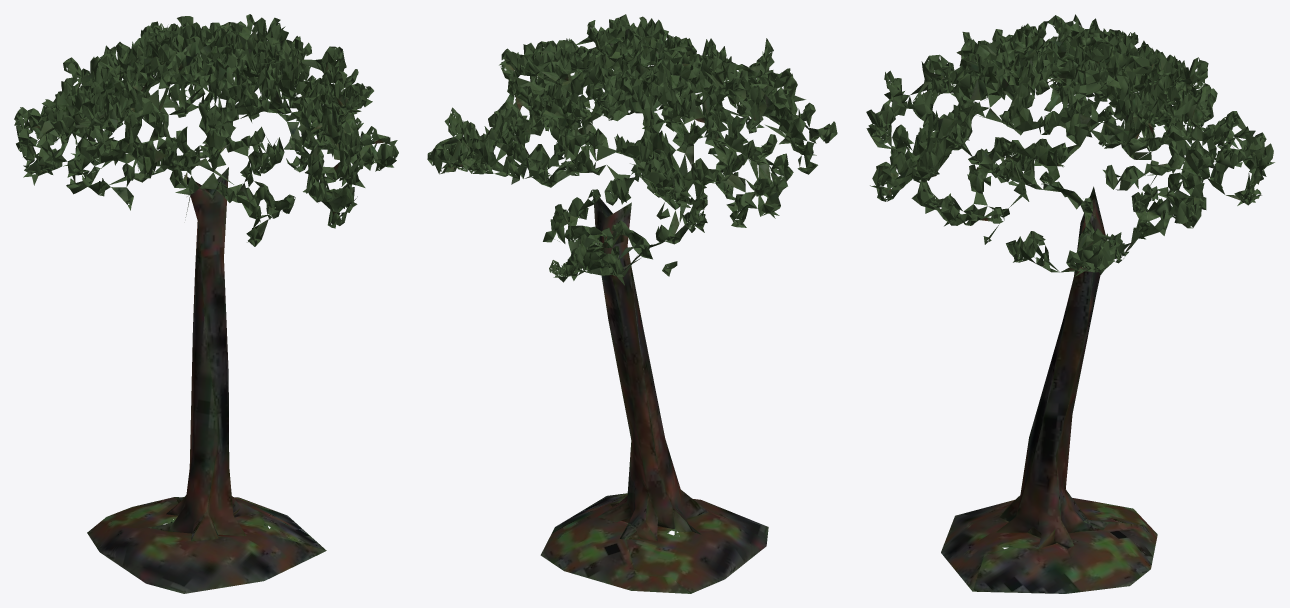
The model's file is nature_tree_stone-pine.glb.
The picture shows the model from 3 angles, left to right: view 1: azimuth 30°, elevation 25°; view 2: azimuth 150°, elevation 25°; view 3: azimuth 270°, elevation 25°; orthographic projection. The views are drawn at different scales.
Parts seen in each view (by area): view 1: world; view 2: world; view 3: world.
Boxes of the visible parts, x1=… form: world: x1=14, y1=14, x2=398, y2=593; world: x1=427, y1=14, x2=837, y2=593; world: x1=866, y1=14, x2=1274, y2=593.
Size of the model in its own units: 9.86 by 14 by 10.17.
1 material, 1 textured.
